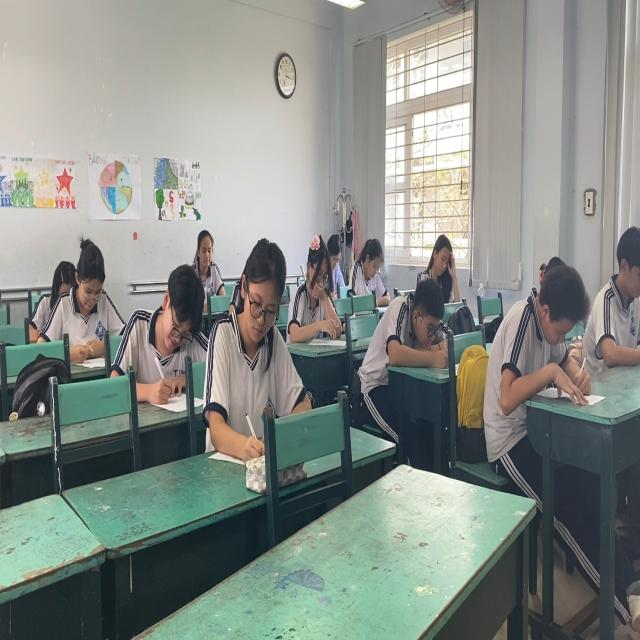not_cheating: (492, 255, 589, 403), (221, 234, 287, 435), (138, 251, 212, 393), (49, 230, 114, 324), (375, 286, 447, 368), (291, 231, 336, 345), (188, 224, 229, 290), (348, 241, 388, 299), (418, 231, 454, 283)
